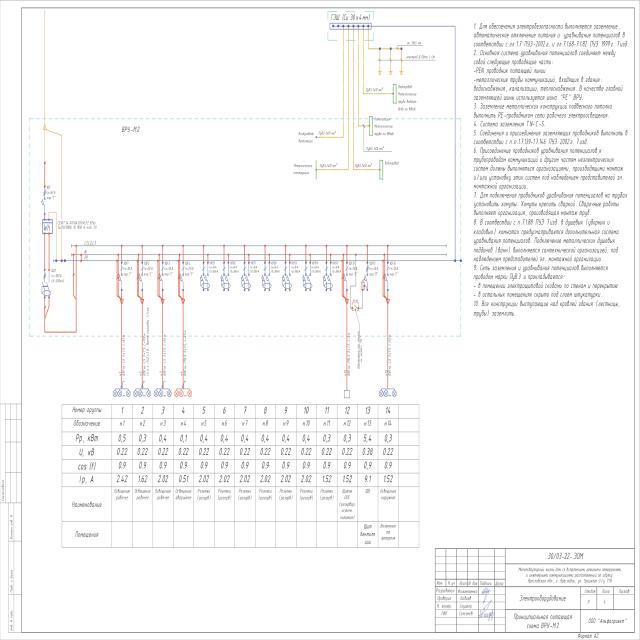-: (120, 124, 142, 134), (122, 266, 134, 278), (46, 190, 57, 202), (51, 274, 64, 284), (368, 266, 379, 277), (389, 266, 399, 277), (184, 267, 195, 277), (164, 266, 174, 277), (144, 266, 154, 277), (348, 266, 357, 277), (209, 265, 219, 274), (270, 265, 280, 274), (291, 265, 301, 274), (250, 265, 260, 274), (229, 265, 239, 273), (311, 266, 321, 274), (332, 265, 341, 273)
ITU: (360, 282, 365, 290)
QF: (40, 189, 46, 208), (118, 266, 124, 284), (159, 266, 165, 284), (343, 266, 349, 283), (364, 265, 370, 282), (384, 266, 390, 282), (180, 266, 185, 283), (139, 266, 144, 282)
QFD: (261, 265, 272, 289), (41, 273, 52, 296), (220, 266, 231, 289), (200, 265, 210, 289), (241, 266, 251, 289), (282, 267, 292, 289), (323, 267, 333, 289), (303, 267, 313, 289)
WH: (42, 219, 54, 234)
